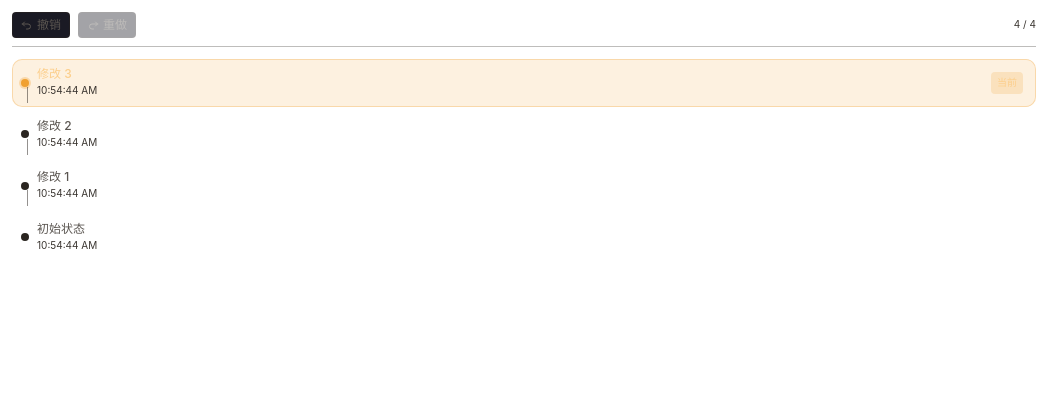
Test: VersionTimeline - 预览 › 点击时间线条目进入预览
Click the button "修改 3 10:54:44 AM 当前" at coordinates (54, 74), box 12,59 -> 1036,106
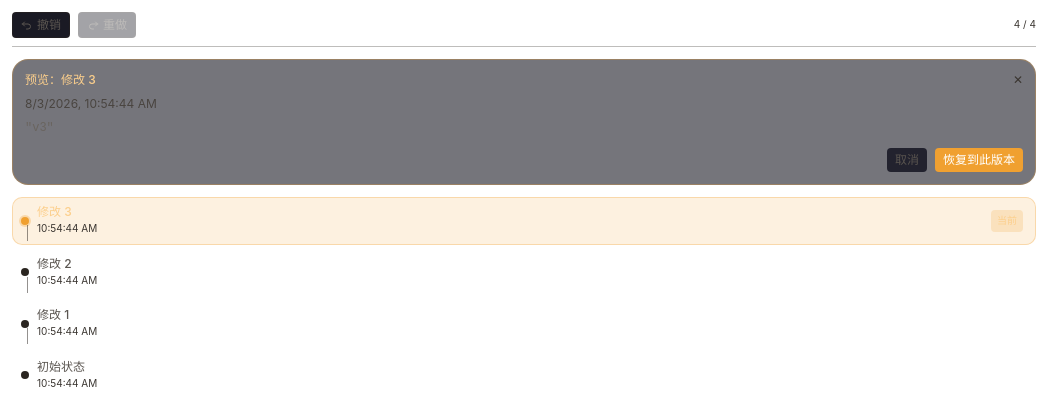
Expected: the element with test id "version-preview" is shown, 12,59 -> 1036,185
